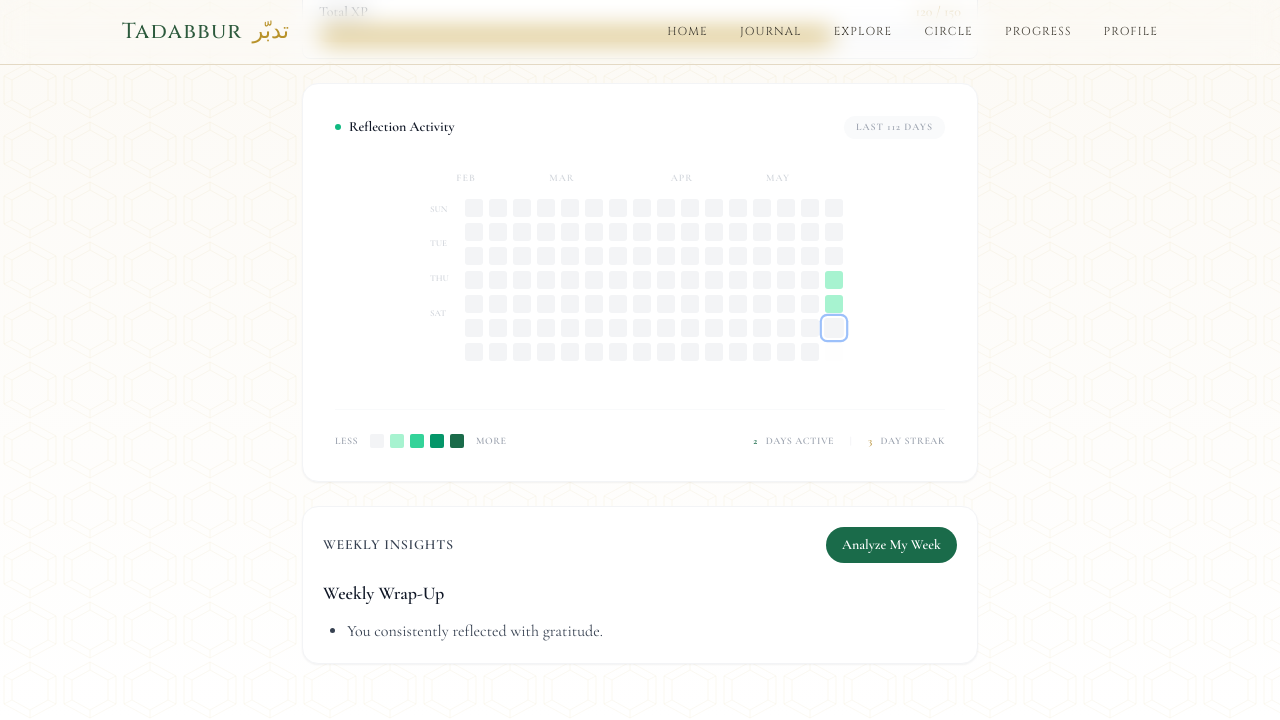
Test: Progress weekly insights › shows not-enough-data state when no weekly reflections are available
(page scrolled)
Click the button "Analyze My Week" at [892, 545], box [826,527,957,563]
(page scrolled)
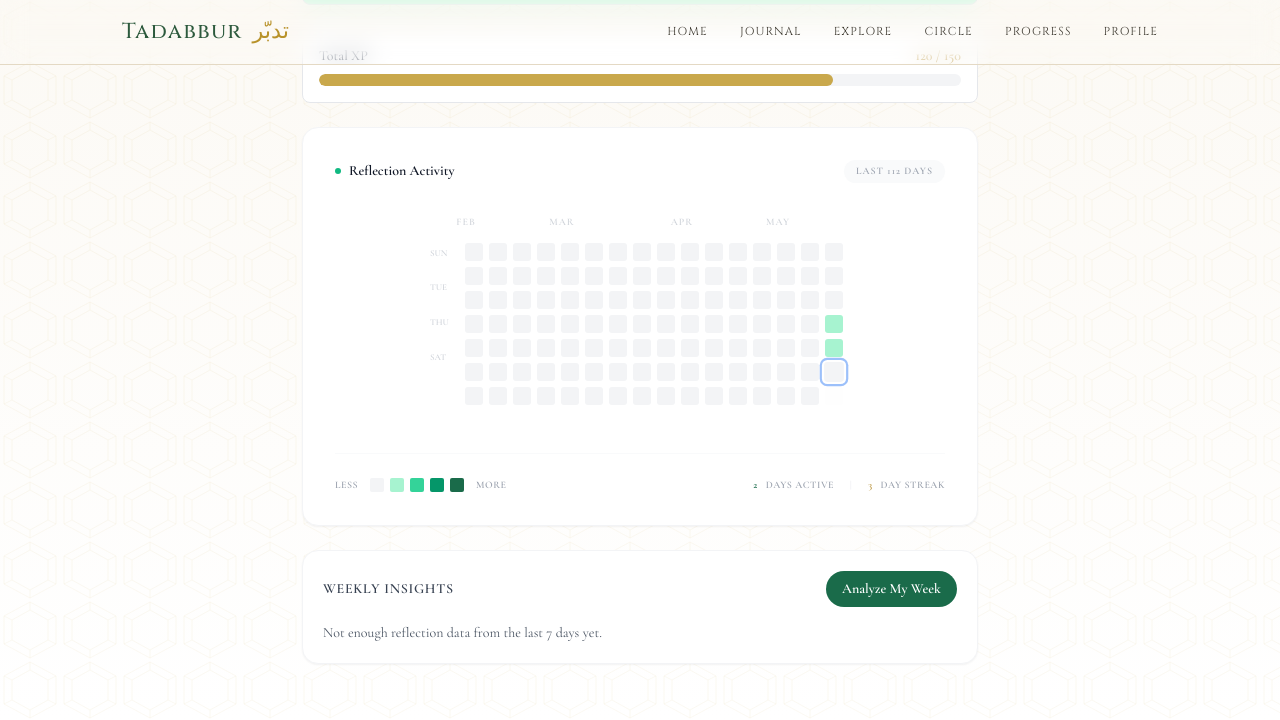
Expected: the text "Not enough reflection data from the last 7 days yet." is shown, [323,624,602,641]
